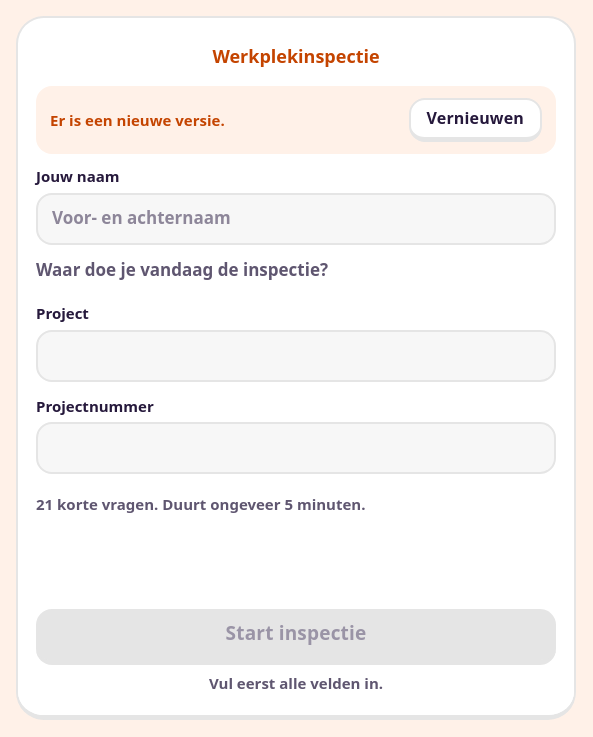
Test: update banner › is never shown during an inspection
This screenshot has width=593, height=737.
Expected: the button "Start inspectie" is shown, [36,609,556,665]
Type "J. Jansen" into the field labelled "Jouw naam" at (296, 218), box [36,192,556,244]
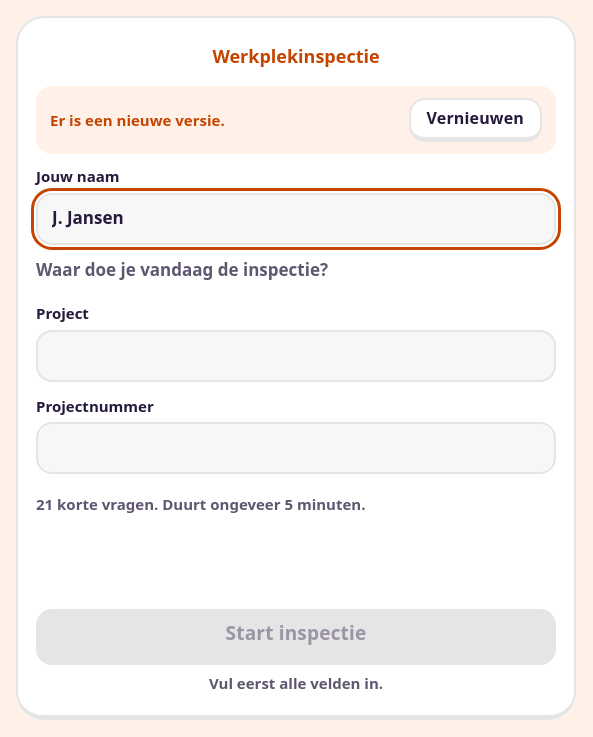
Type "Voorbeeld B.V." into the field labelled "Project" at (296, 356), box [36,330,556,382]
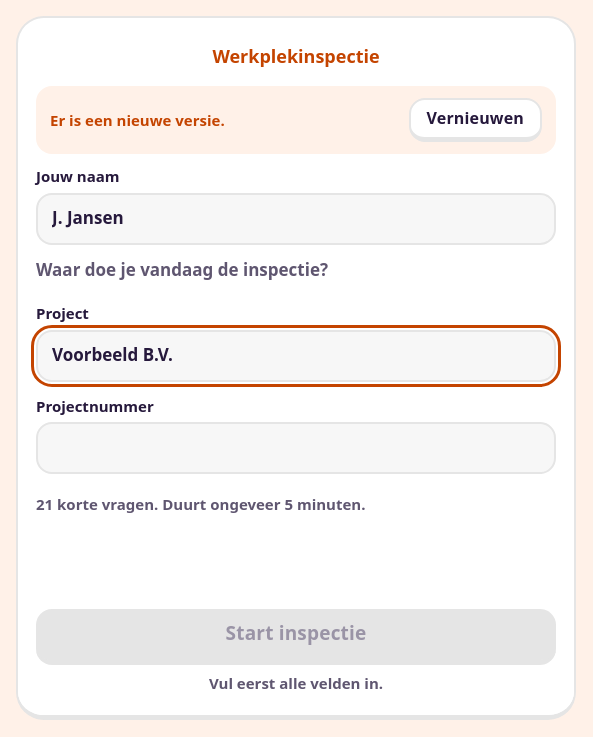
Type "P-1" into the field labelled "Projectnummer" at (296, 448), box [36,422,556,474]
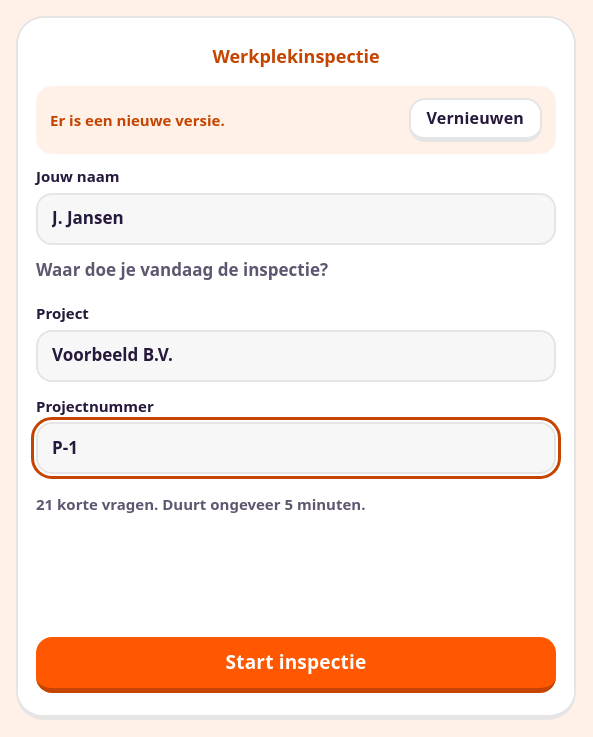
Click the button "Start inspectie" at (296, 665), box [36,637,556,693]
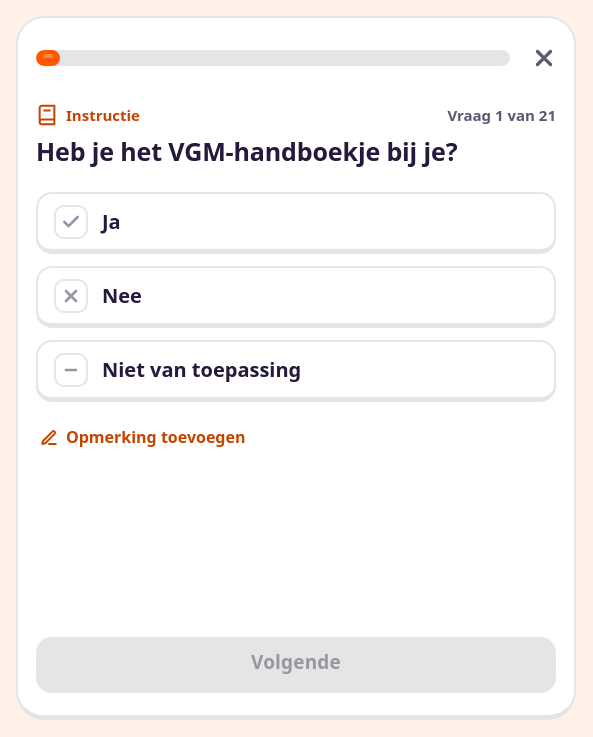
Result: the radio button labelled "Ja" is shown at [36,192,556,254]
Result: the text "Er is een nieuwe versie." is gone
Result: the button "Vernieuwen" is gone
